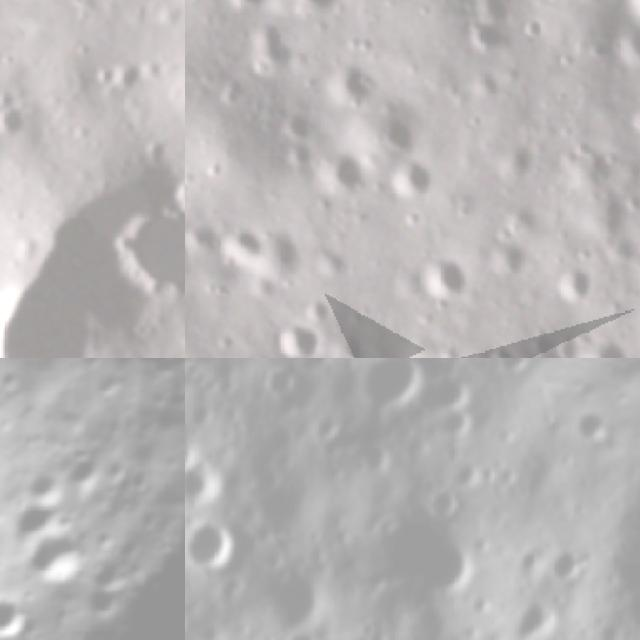crater: (88, 157, 185, 346), (0, 238, 123, 358), (398, 515, 497, 615), (244, 550, 339, 640), (185, 496, 262, 597), (336, 358, 437, 427), (444, 0, 517, 52), (29, 528, 93, 587), (426, 392, 486, 453), (185, 454, 236, 525), (499, 589, 568, 640), (250, 358, 309, 411), (299, 399, 353, 455), (544, 546, 598, 600), (109, 53, 161, 104), (360, 358, 481, 379), (558, 412, 609, 461), (0, 95, 45, 149), (419, 478, 468, 527), (506, 540, 554, 587), (272, 318, 328, 358), (185, 403, 209, 496), (396, 153, 442, 199), (0, 588, 40, 640), (326, 64, 383, 100), (421, 256, 468, 299), (222, 225, 270, 264), (477, 358, 532, 392), (484, 230, 526, 270), (614, 576, 640, 640), (332, 156, 366, 194), (555, 270, 604, 296), (575, 336, 628, 358), (270, 109, 310, 138), (279, 358, 340, 375), (284, 144, 323, 170), (479, 341, 530, 358), (617, 26, 640, 62), (629, 95, 640, 136)
